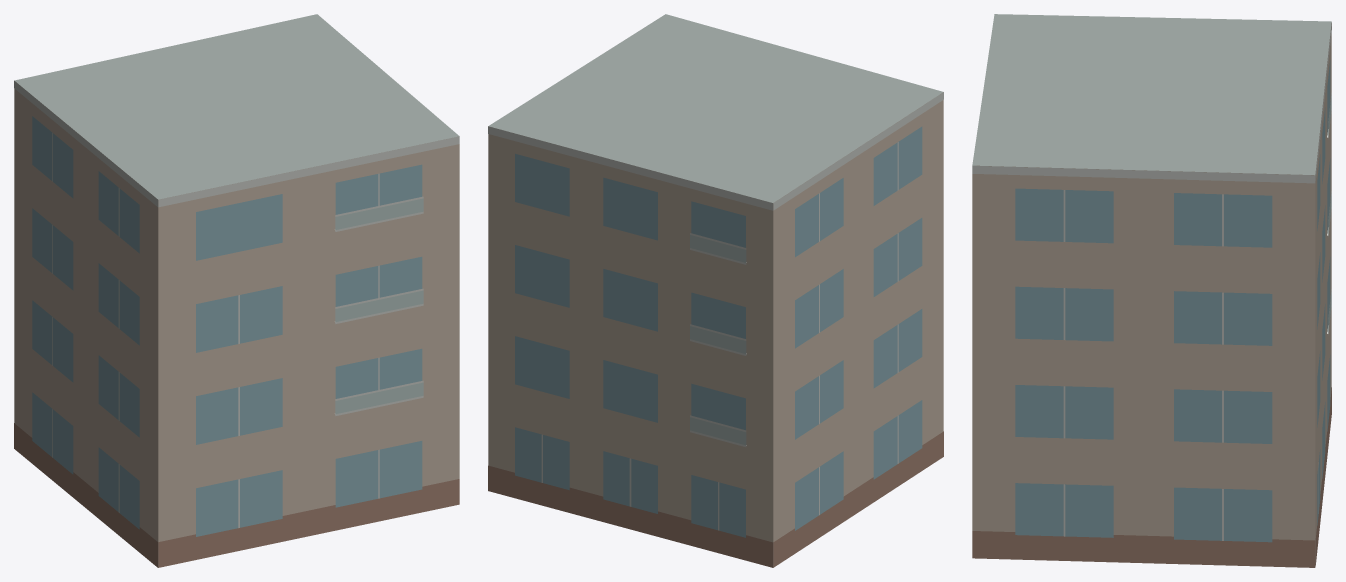
Rendered from survey-upis-32838813.glb.
The picture shows the model from 3 angles, left to right: view 1: azimuth 30°, elevation 25°; view 2: azimuth 150°, elevation 25°; view 3: azimuth 270°, elevation 25°; orthographic projection. The views are drawn at different scales.
Visible parts, largest first — view 1: survey-upis-32838813.tmp; view 2: survey-upis-32838813.tmp; view 3: survey-upis-32838813.tmp.
Part boxes in pixels (x1,y1,x2,y2): survey-upis-32838813.tmp: (14,14,459,567); survey-upis-32838813.tmp: (488,14,943,567); survey-upis-32838813.tmp: (972,14,1331,567).
Bounding box in the file's own units: 10.22 × 11.6 × 9.63.
